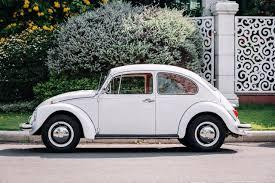volkswagen: (24, 64, 247, 154)
